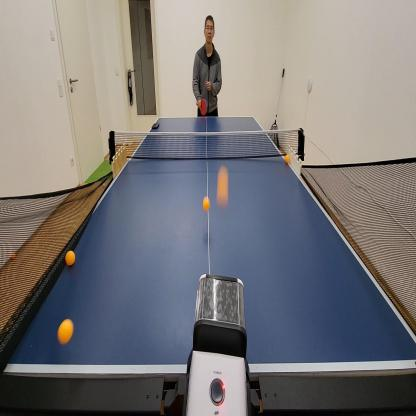Ball: (215, 163, 230, 210), (56, 316, 75, 346), (64, 248, 76, 268), (202, 194, 211, 213), (283, 153, 291, 165), (10, 250, 17, 262), (102, 182, 106, 190)
